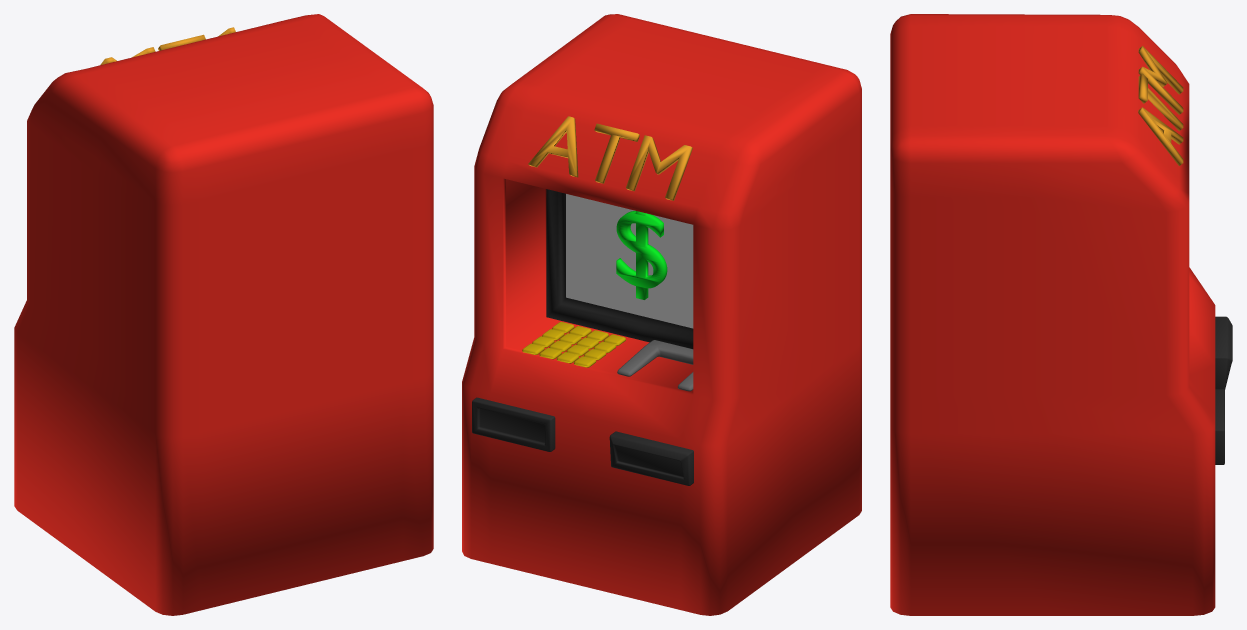
Rendered from M_ATM.fbx.
3 views of the same model, side by side, from view 1: azimuth 30°, elevation 25°; view 2: azimuth 150°, elevation 25°; view 3: azimuth 270°, elevation 25° (orthographic). The views are drawn at different scales.
Parts seen in each view (by area): view 1: Cube; view 2: Cube; view 3: Cube.
Boxes of the visible parts, <box> form: Cube: <box>14,14,433,615</box>; Cube: <box>462,14,861,615</box>; Cube: <box>890,14,1232,615</box>.
Bounding box in the file's own units: 1.25 × 1.99 × 1.31.
